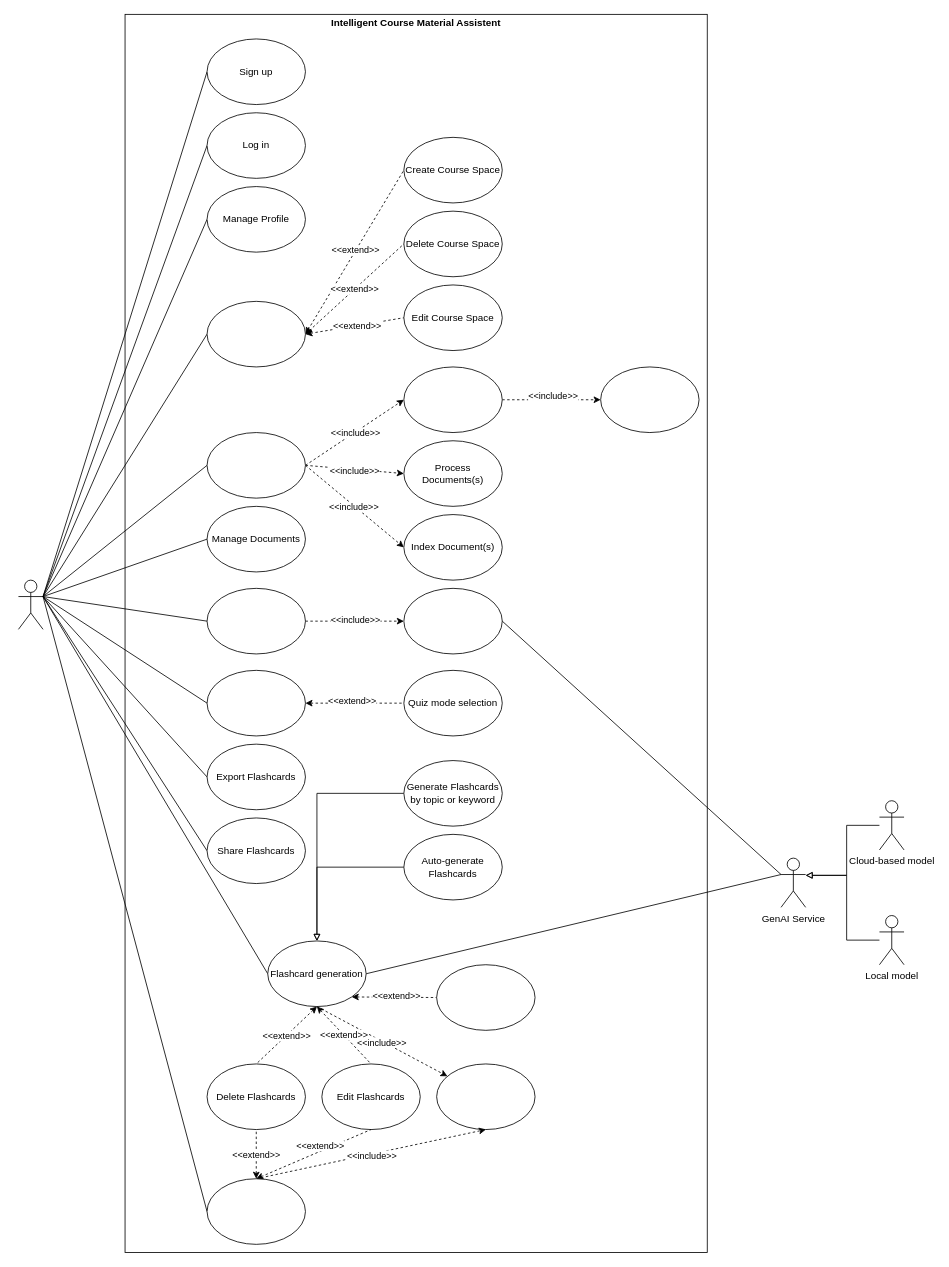
Image size: 949x1267. Some labels were removed from this diagram. Each missing label, with the centre of its shape:
"Ask Question about Course (Q&A)" belongs at (x=255, y=621).
"Error/Success message" belongs at (x=649, y=399).
"Generate Answer with Citation" belongs at (x=452, y=621).
"Manage Course Space" belongs at (x=255, y=334).
"Manage Flashcards" belongs at (x=255, y=1211).
"P rogress indicator" belongs at (x=452, y=399).
"Review Flashcards" belongs at (x=255, y=703).
"Save Flashcards" belongs at (x=485, y=1096).
"Set generation filters" belongs at (x=485, y=997).
"Student" belongs at (x=30, y=604).
"Upload Document(s)" belongs at (x=255, y=465).
